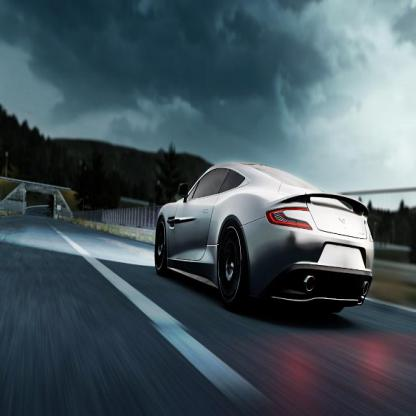Car: (154, 161, 374, 314)
